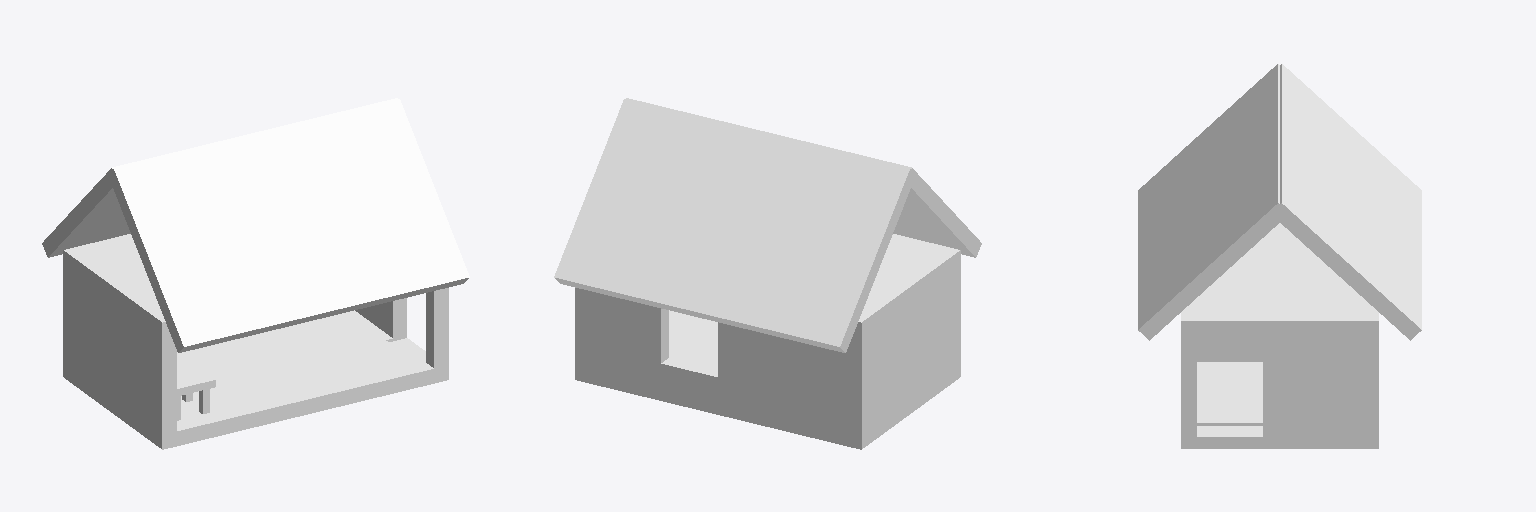
File: House.obj
The picture shows the model from 3 angles: view 1: azimuth 30°, elevation 25°; view 2: azimuth 150°, elevation 25°; view 3: azimuth 270°, elevation 25°; orthographic projection.
Parts seen in each view (by area): view 1: House; view 2: House; view 3: House.
Boxes of the visible parts, box(x1,y1,x2,y2) form: House: box(42, 98, 469, 449); House: box(554, 98, 981, 449); House: box(1138, 64, 1421, 448).
Bounding box in the file's own units: 20 × 16.4 × 17.19.